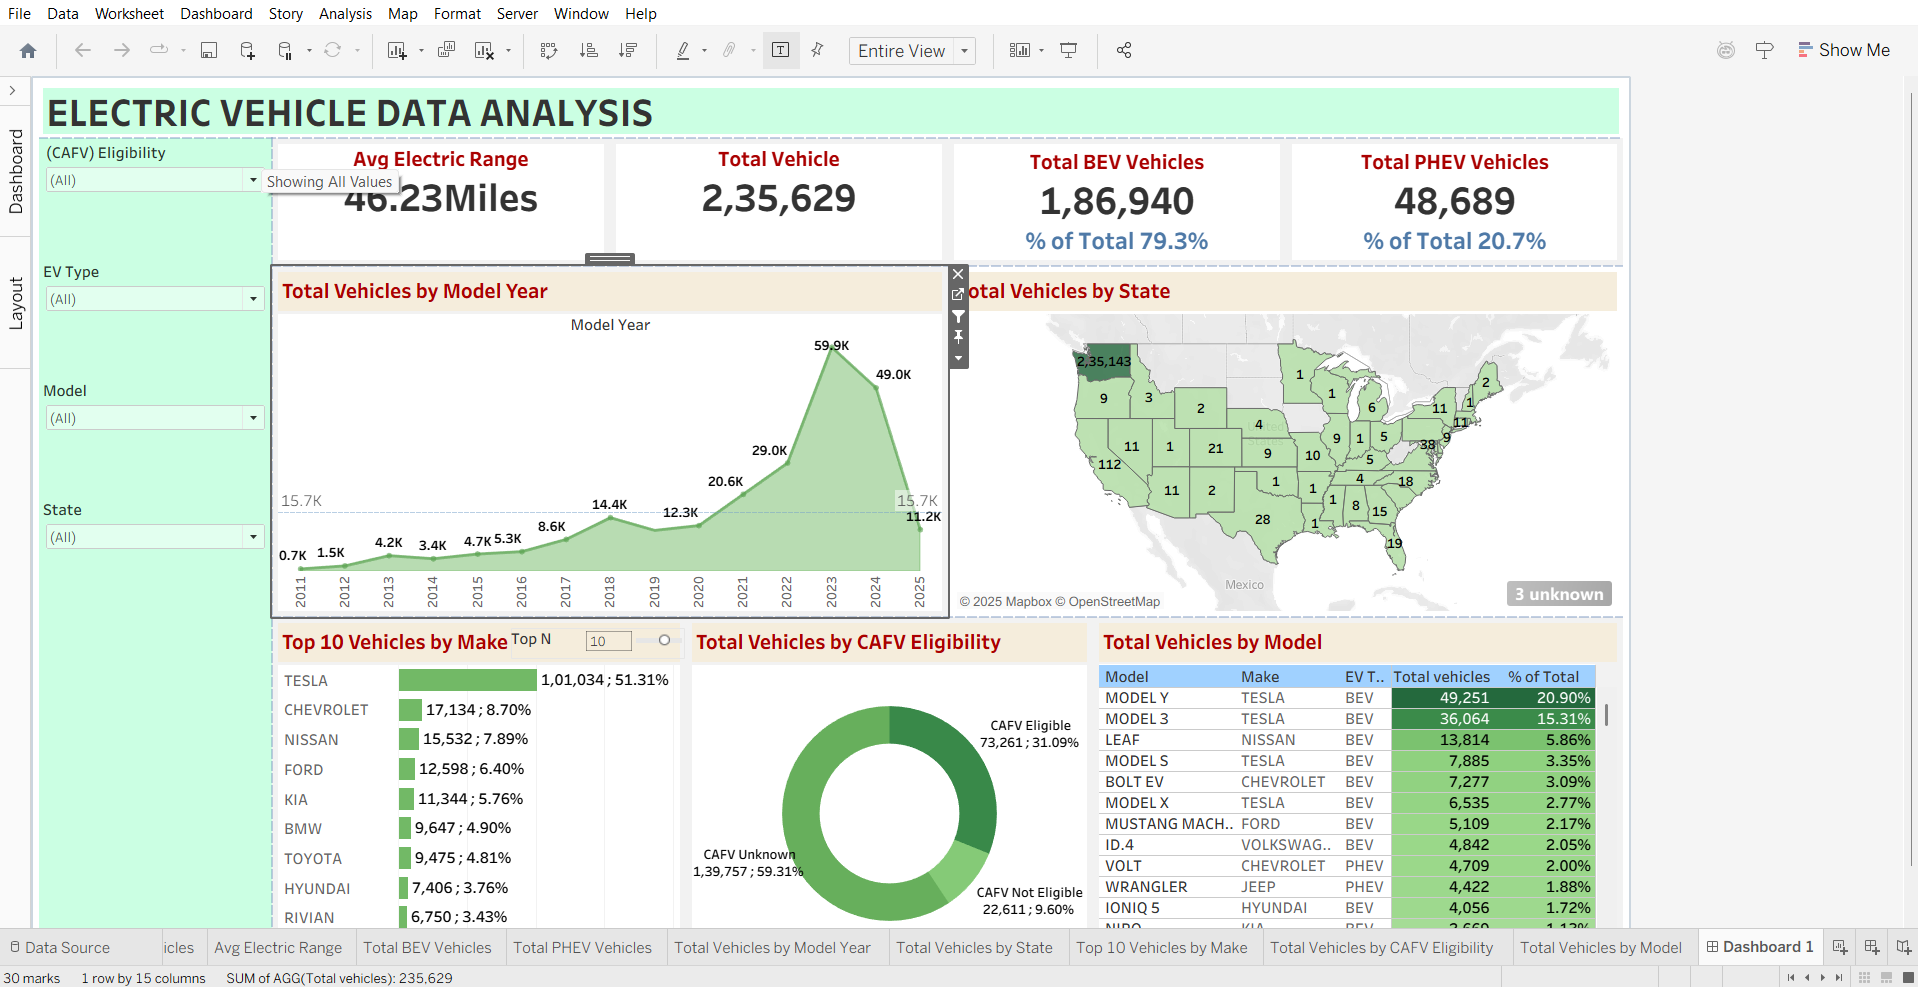

This screenshot's page, from the dashboard's own definition file:
{"tool":"tableau","page":{"name":"Dashboard 1","canvas":[1600,900],"ordinal":0},"visuals":[{"type":"title","box":[8,8,1584,54]},{"type":"filter","title":"Total Vehicles by Model Year","param":"[federated.0k3ki64068pudx1cneia10ursva7].[none:Clean Alternative Fuel Vehicle (C","box":[8,62,233,119]},{"type":"worksheet","title":"Avg Electric Range","mark":"Automatic","box":[241,62,338,128]},{"type":"worksheet","title":"Total Vehicles","mark":"Automatic","box":[579,62,338,128]},{"type":"worksheet","title":"Total BEV Vehicles","mark":"Automatic","box":[917,62,338,128]},{"type":"worksheet","title":"Total PHEV Vehicles","mark":"Automatic","box":[1255,62,337,128]},{"type":"filter","title":"Total Vehicles by Model Year","param":"[federated.0k3ki64068pudx1cneia10ursva7].[none:Electric Vehicle Type:nk]","box":[8,181,233,119]},{"type":"worksheet","title":"Total Vehicles by Model Year","mark":"Area","rows":["Calculation_1595400176702898176","Calculation_1595400176702898176"],"cols":["Model Year"],"box":[241,190,676,351]},{"type":"worksheet","title":"Total Vehicles by State","mark":"Multipolygon","box":[917,190,675,351]},{"type":"filter","title":"Total Vehicles by Model Year","param":"[federated.0k3ki64068pudx1cneia10ursva7].[none:Model:nk]","box":[8,300,233,119]},{"type":"filter","title":"Total Vehicles by Model Year","param":"[federated.0k3ki64068pudx1cneia10ursva7].[none:State:nk]","box":[8,419,233,119]},{"type":"blank","box":[8,538,233,118]},{"type":"worksheet","title":"Top 10 Vehicles by Make","mark":"Automatic","rows":["Make"],"cols":["Calculation_1595400176702898176"],"box":[241,541,414,351]},{"type":"worksheet","title":"Total Vehicles by CAFV Eligibility","mark":"Pie","rows":["Calculation_1170654437435899905","Calculation_1170654437435899905"],"box":[655,541,407,351]},{"type":"worksheet","title":"Total Vehicles by Model","mark":"Square","rows":["Model","Make","Electric Vehicle Type"],"box":[1062,541,530,351]},{"type":"parameter","param":"[Parameters].[Parameter 1]","box":[480,552,174,31]},{"type":"blank","box":[8,656,233,118]},{"type":"blank","box":[8,774,233,118]}]}

Visuals, with their boxes on the page's 1600x900 design canvas (x1, y1, x2, y2). These are canvas units, not pixel positions in the 1918x987 screenshot, which may show the page scaled, cropped or inside an application window:
title: {"left": 8, "top": 8, "right": 1592, "bottom": 62}
"Total Vehicles by Model Year" filter: {"left": 8, "top": 62, "right": 241, "bottom": 181}
"Avg Electric Range" worksheet: {"left": 241, "top": 62, "right": 579, "bottom": 190}
"Total Vehicles" worksheet: {"left": 579, "top": 62, "right": 917, "bottom": 190}
"Total BEV Vehicles" worksheet: {"left": 917, "top": 62, "right": 1255, "bottom": 190}
"Total PHEV Vehicles" worksheet: {"left": 1255, "top": 62, "right": 1592, "bottom": 190}
"Total Vehicles by Model Year" filter: {"left": 8, "top": 181, "right": 241, "bottom": 300}
"Total Vehicles by Model Year" worksheet (Area marks): {"left": 241, "top": 190, "right": 917, "bottom": 541}
"Total Vehicles by State" worksheet (Multipolygon marks): {"left": 917, "top": 190, "right": 1592, "bottom": 541}
"Total Vehicles by Model Year" filter: {"left": 8, "top": 300, "right": 241, "bottom": 419}
"Total Vehicles by Model Year" filter: {"left": 8, "top": 419, "right": 241, "bottom": 538}
blank: {"left": 8, "top": 538, "right": 241, "bottom": 656}
"Top 10 Vehicles by Make" worksheet: {"left": 241, "top": 541, "right": 655, "bottom": 892}
"Total Vehicles by CAFV Eligibility" worksheet (Pie marks): {"left": 655, "top": 541, "right": 1062, "bottom": 892}
"Total Vehicles by Model" worksheet (Square marks): {"left": 1062, "top": 541, "right": 1592, "bottom": 892}
parameter: {"left": 480, "top": 552, "right": 654, "bottom": 583}
blank: {"left": 8, "top": 656, "right": 241, "bottom": 774}
blank: {"left": 8, "top": 774, "right": 241, "bottom": 892}
